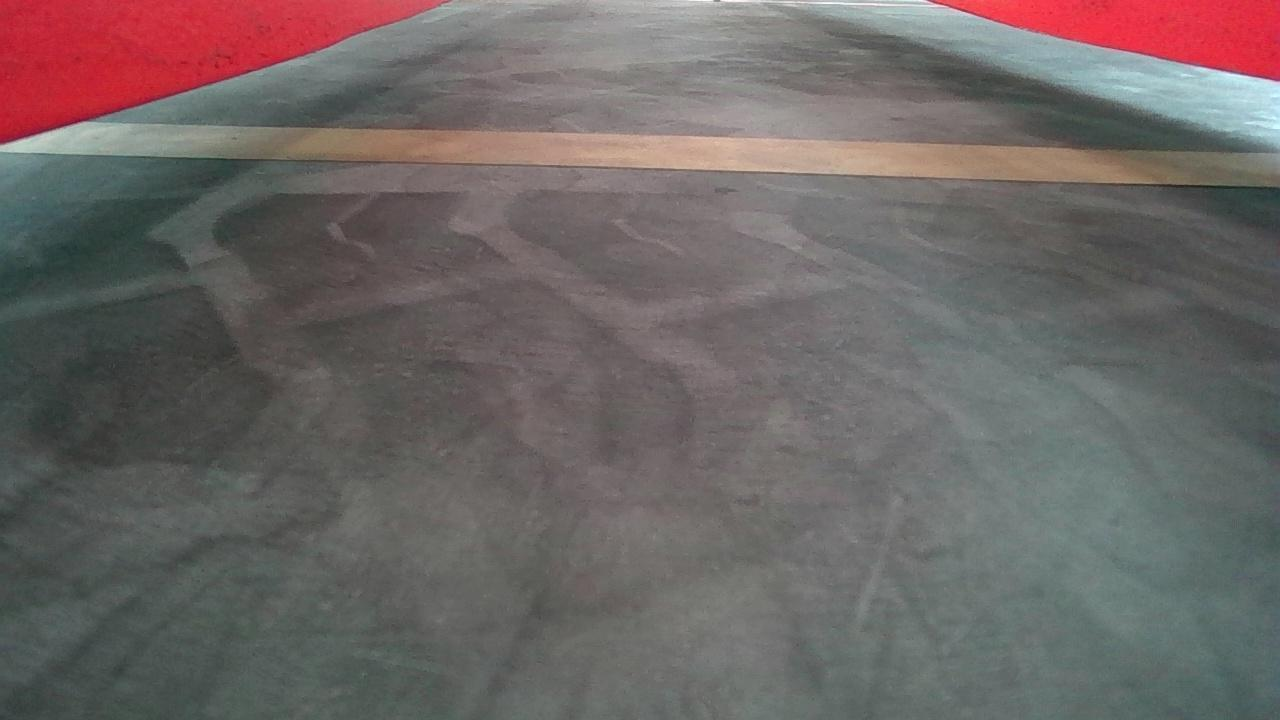yellow_line: (3, 118, 1280, 188)
